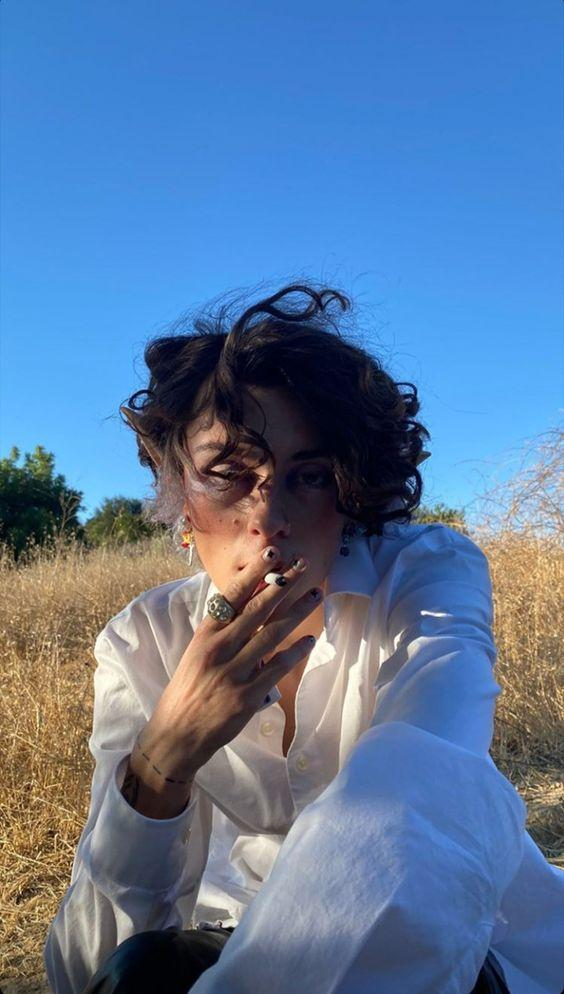cigarette: (264, 572, 287, 587)
